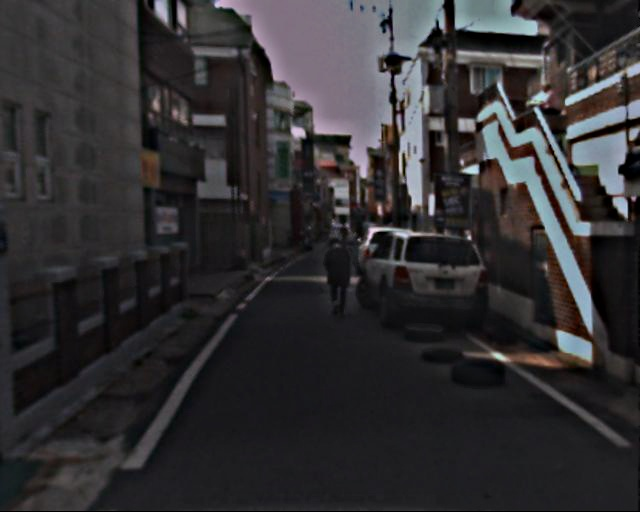person: (318, 234, 354, 321)
